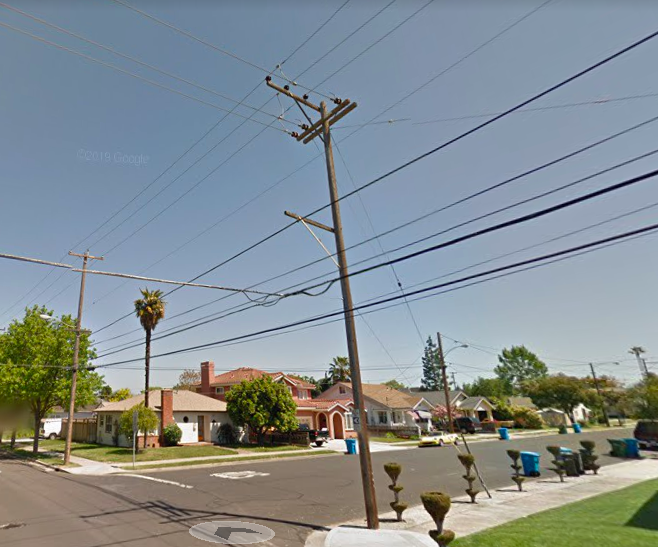utility_pole: (256, 66, 363, 153)
